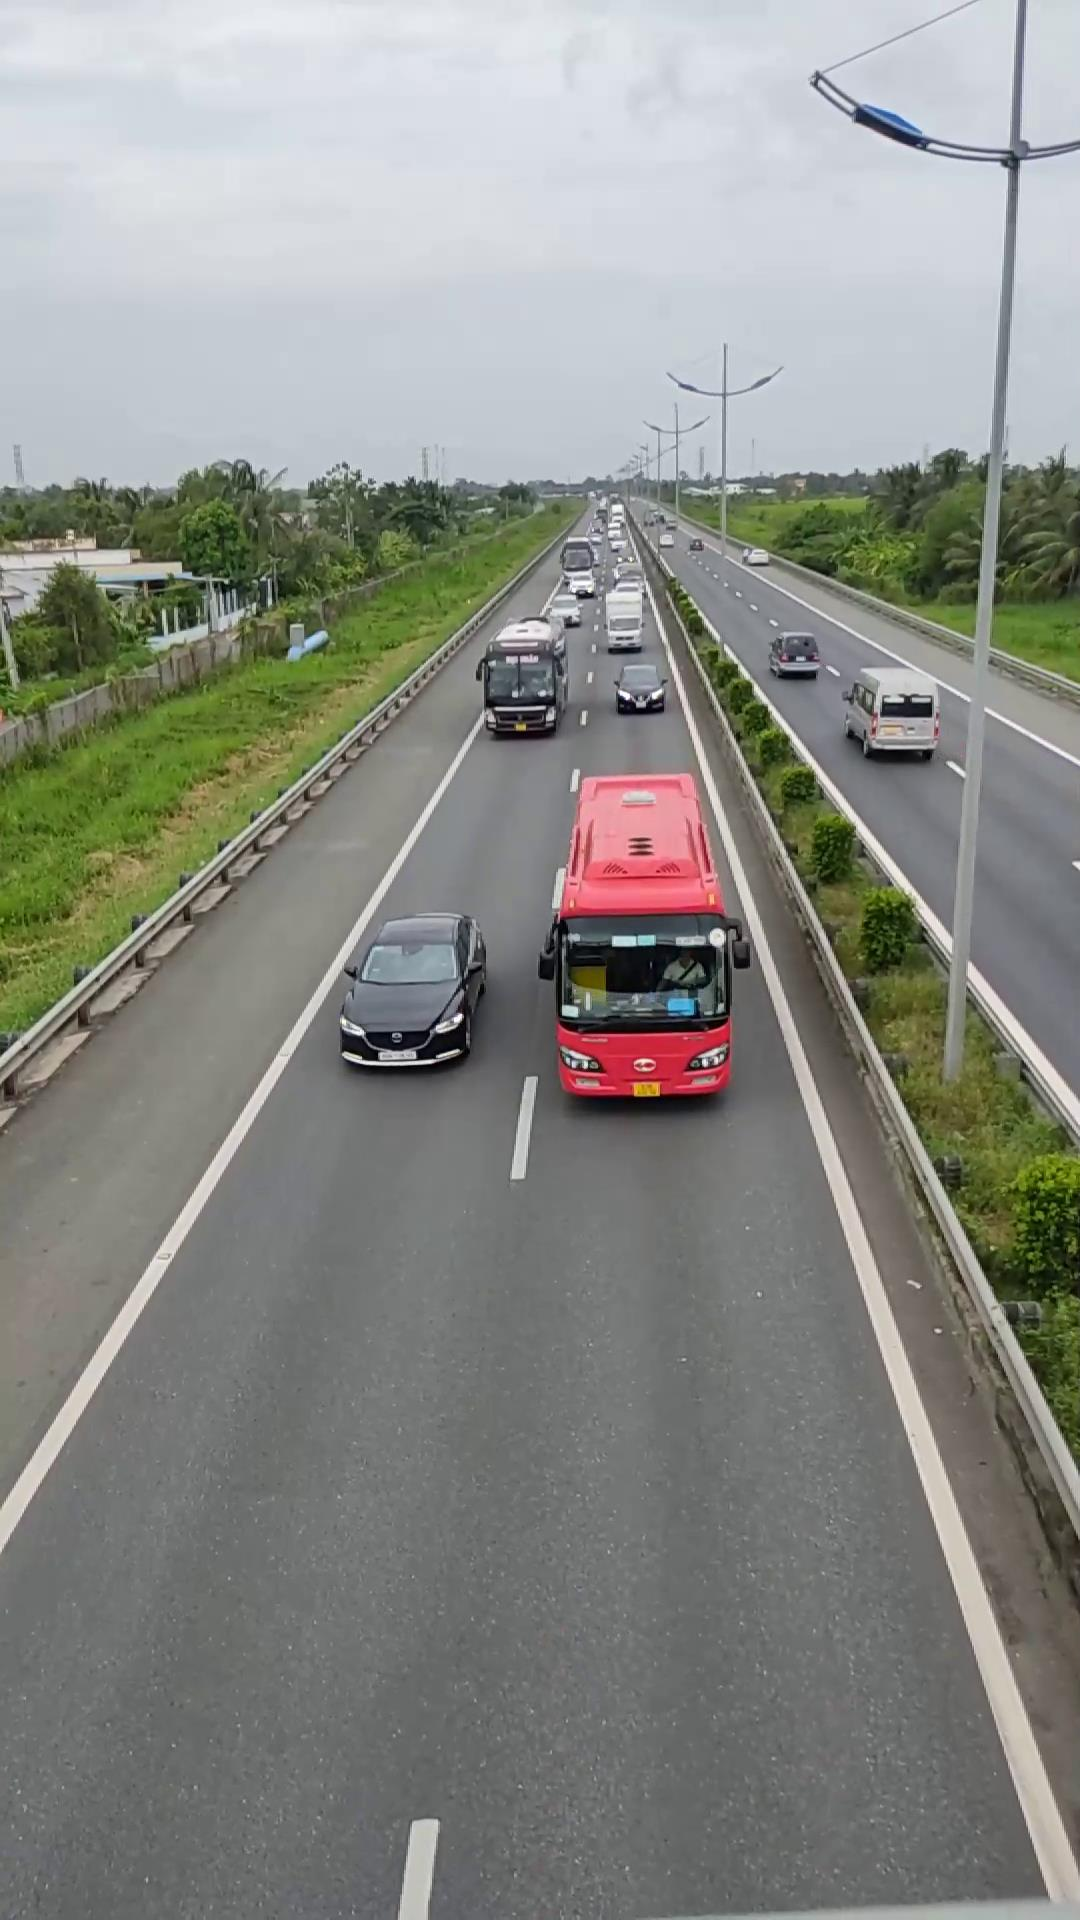bus: (541, 767, 742, 1102), (480, 618, 568, 735)
car: (335, 911, 488, 1069), (841, 663, 942, 760)
